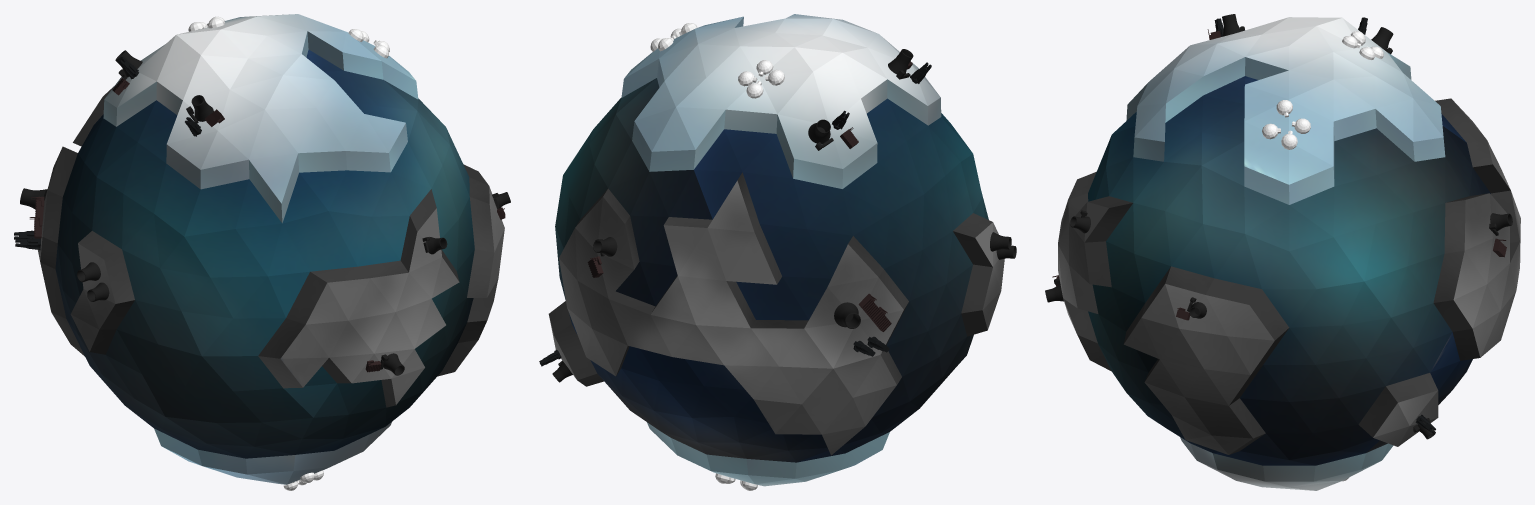
Rendered from world_2_industria.FBX.
3 renders of one model, left to right at view 1: azimuth 30°, elevation 25°; view 2: azimuth 150°, elevation 25°; view 3: azimuth 270°, elevation 25°, orthographic. The views are drawn at different scales.
Visible parts, largest first — view 1: GeoSphere001; view 2: GeoSphere001, gruppo_fabbrica_1, fabbrica006; view 3: GeoSphere001.
Part boxes in pixels (bbox=[...]): GeoSphere001: bbox=[38, 14, 504, 484]; GeoSphere001: bbox=[548, 14, 1004, 486]; gruppo_fabbrica_1: bbox=[834, 302, 860, 328]; fabbrica006: bbox=[808, 119, 833, 150]; GeoSphere001: bbox=[1058, 17, 1520, 490].
Bounding box in the file's own units: 223 × 229 × 227.
5 materials, 1 textured.
